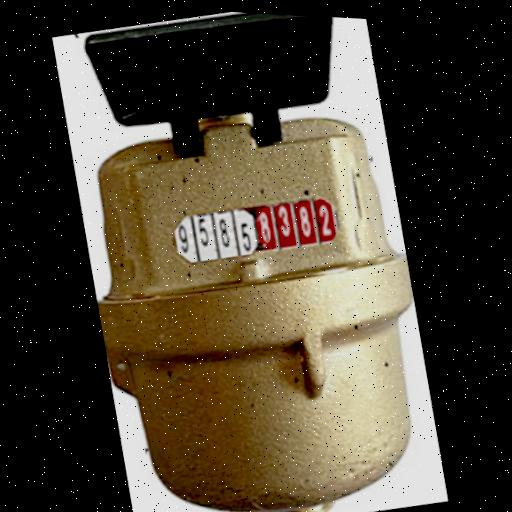2: (313, 196, 344, 244)
3: (274, 200, 299, 249)
5: (193, 212, 220, 262), (233, 206, 260, 256)
8: (212, 209, 239, 260), (253, 203, 279, 252), (293, 198, 319, 247)
9: (170, 215, 197, 265)
border_water_meter_number: (169, 186, 345, 274)
